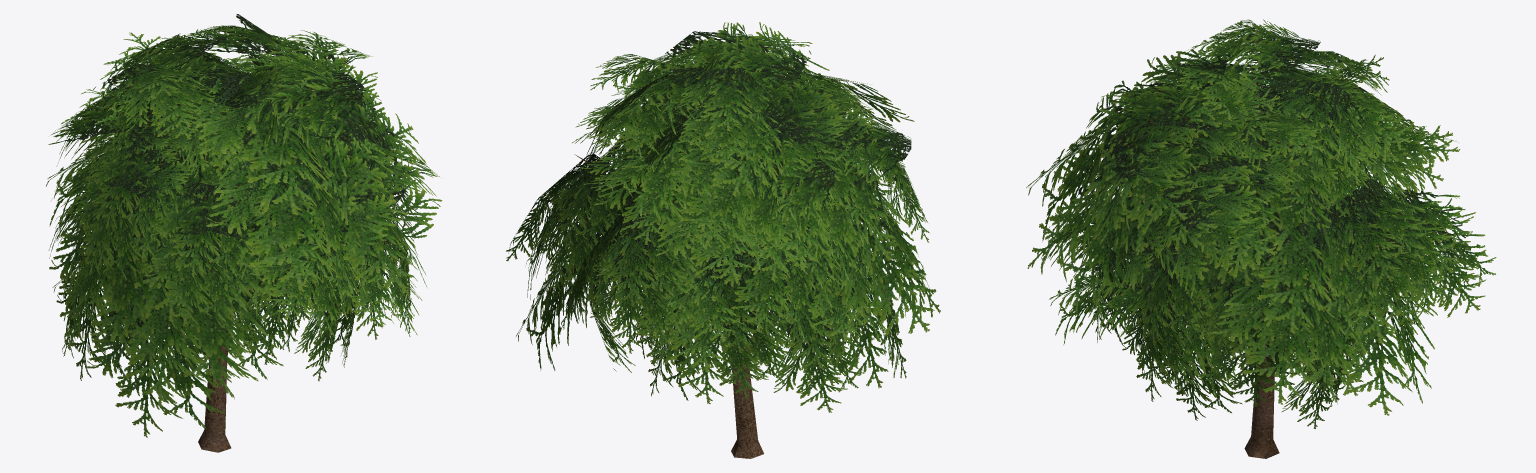
The model's file is Árvore Chorão.fbx.
3 views of the same model, side by side, from view 1: azimuth 30°, elevation 25°; view 2: azimuth 150°, elevation 25°; view 3: azimuth 270°, elevation 25° (orthographic). The views are drawn at different scales.
Visible parts, largest first — view 1: Model_Arvore_Chorao; view 2: Model_Arvore_Chorao; view 3: Model_Arvore_Chorao.
Part boxes in pixels (bbox=[...]): Model_Arvore_Chorao: bbox=[46, 14, 442, 452]; Model_Arvore_Chorao: bbox=[506, 22, 940, 458]; Model_Arvore_Chorao: bbox=[1026, 19, 1496, 458].
Size of the model in its own units: 536 by 533 by 612.
